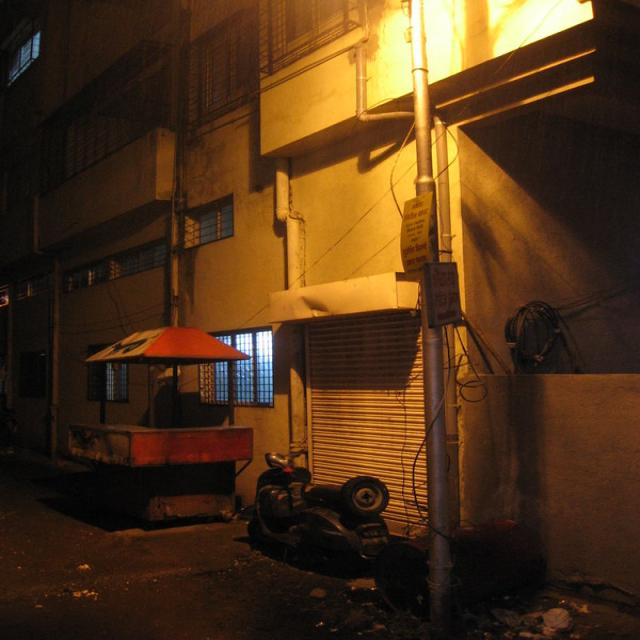Motorbike: (238, 446, 414, 580)
